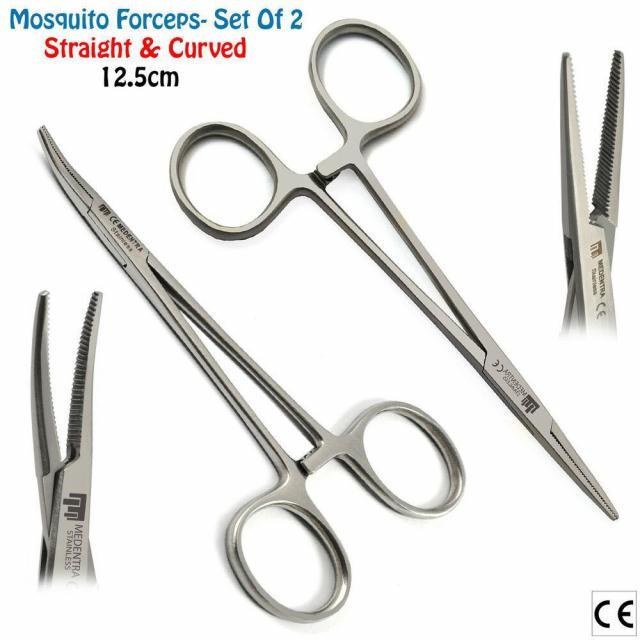Hemostat: (158, 12, 622, 530), (31, 121, 468, 626), (24, 277, 106, 590), (551, 43, 634, 334)
